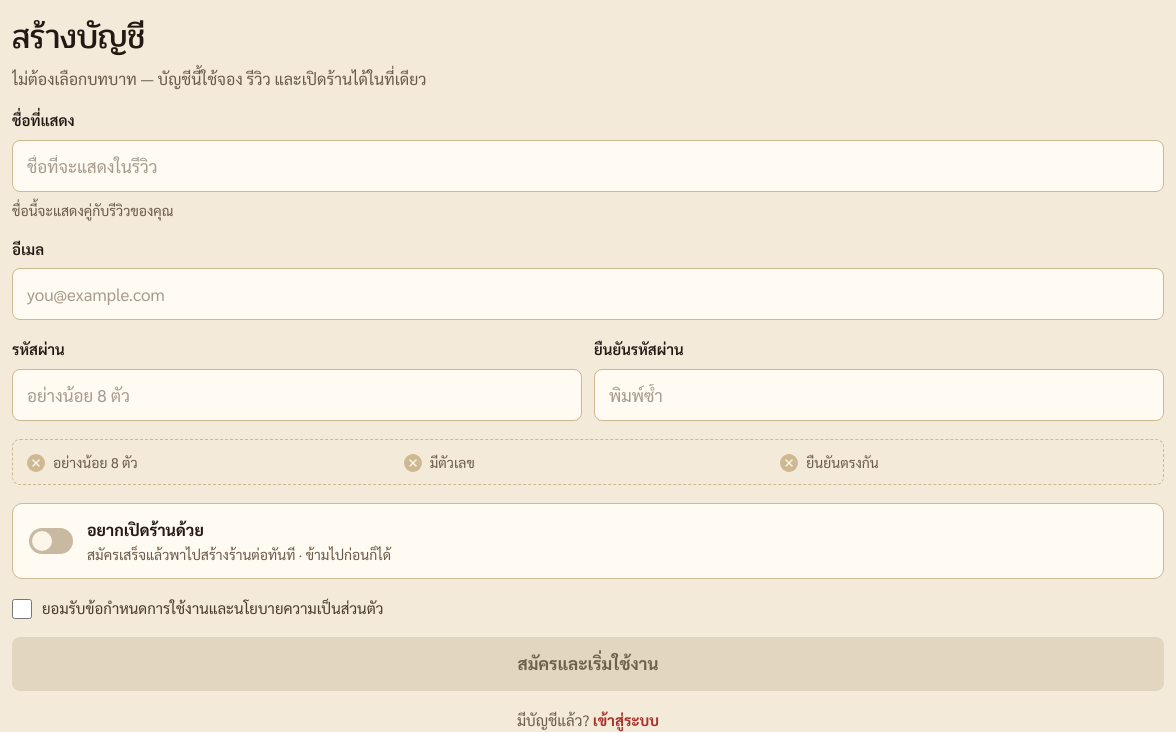
Test case: RegisterForm › checklist รหัสผ่านอัปเดตตามที่พิมพ์ · ปุ่มเปิดเมื่อครบทุกช่อง
Expected: the button "สมัครและเริ่มใช้งาน" is disabled, [12,637,1164,691]
Type "abcdefgh" into the password field labelled "รหัสผ่าน" at x=297, y=394, box [12,368,582,420]
Clear the password field labelled "รหัสผ่าน" at x=297, y=394, box [12,368,582,420]
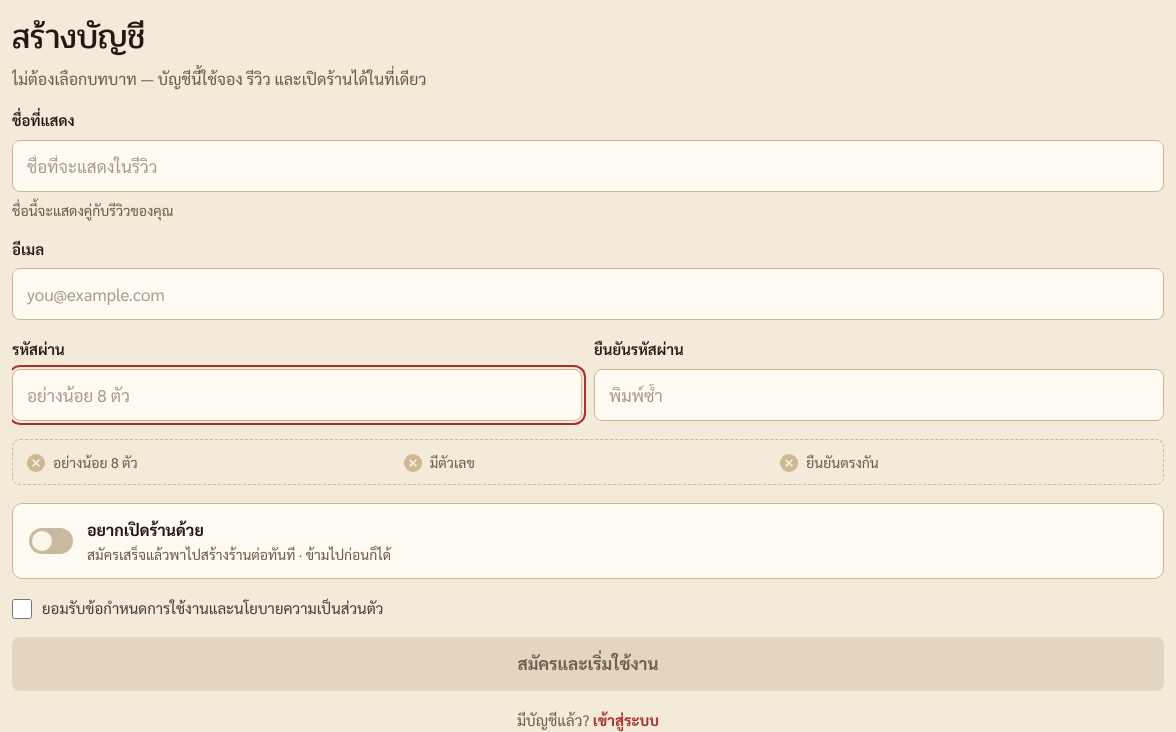
Type "ต้น" into the field labelled "ชื่อที่แสดง" at x=588, y=166, box [12,140,1164,192]
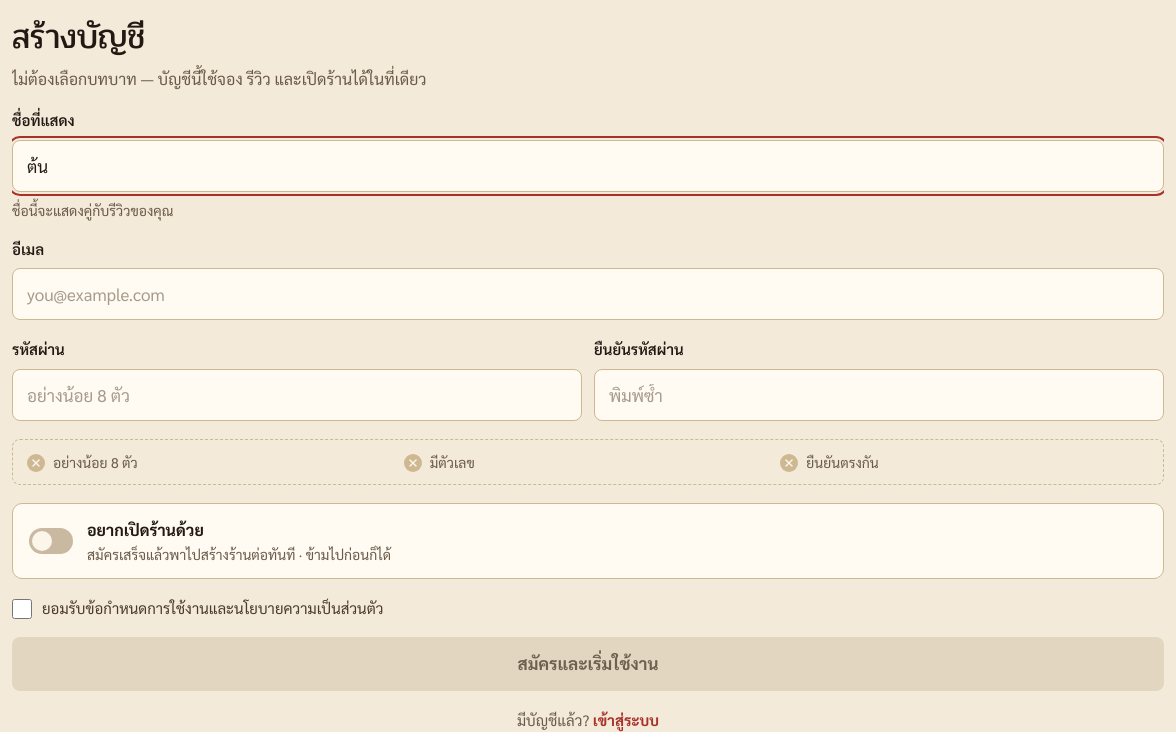
Type "ton@example.com" into the field labelled "อีเมล" at x=588, y=294, box [12,268,1164,320]
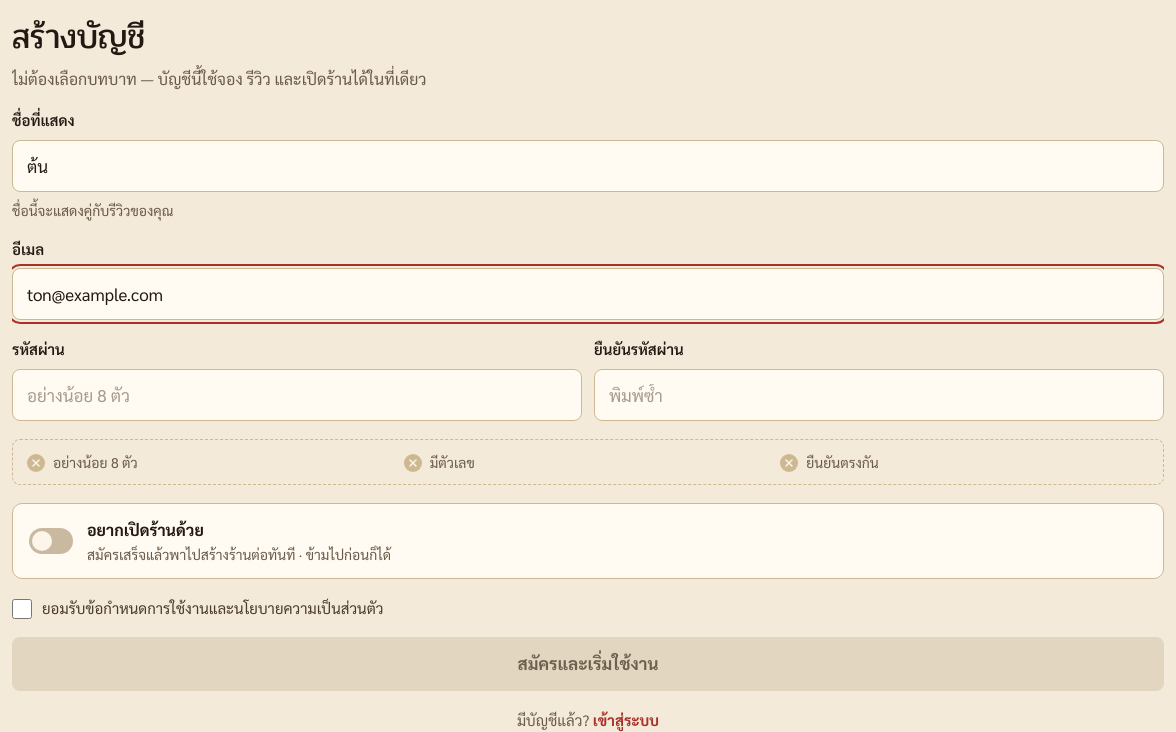
Type "password1" into the password field labelled "รหัสผ่าน" at x=297, y=394, box [12,368,582,420]
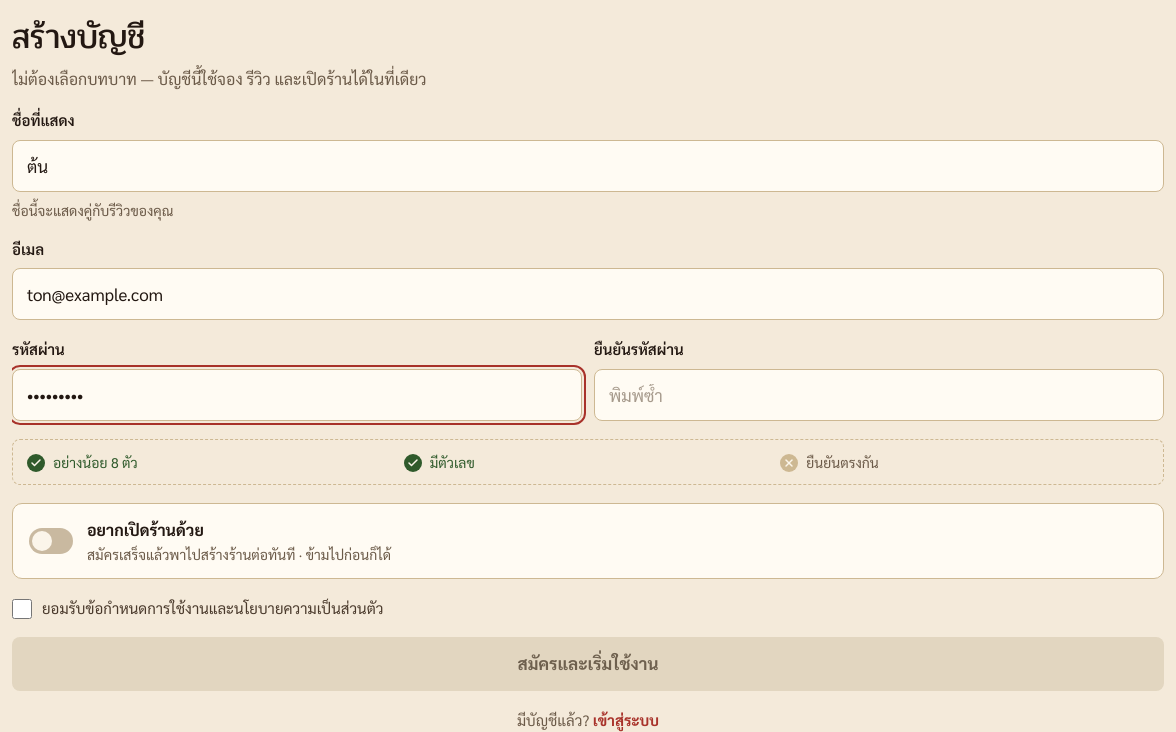
Type "password1" into the password field labelled "ยืนยันรหัสผ่าน" at x=879, y=394, box [594,368,1164,420]
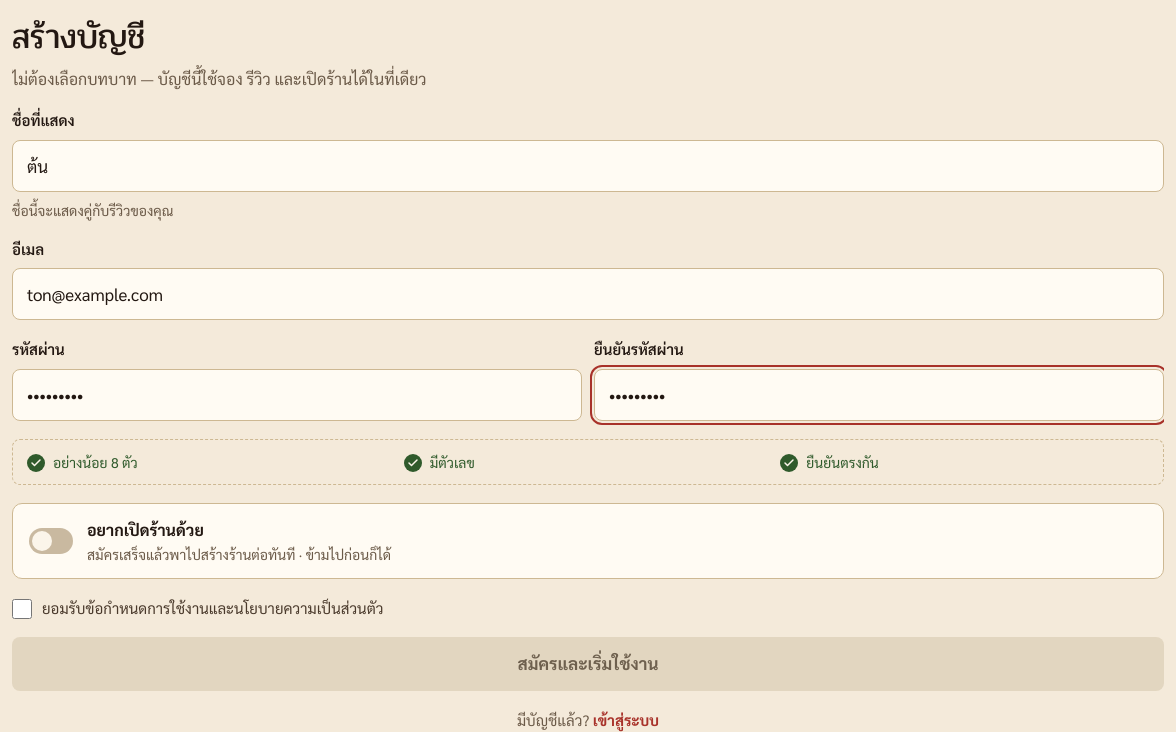
Expected: the button "สมัครและเริ่มใช้งาน" is disabled, [12,637,1164,691]
Click the checkbox at x=22, y=608, box [12,598,32,618]
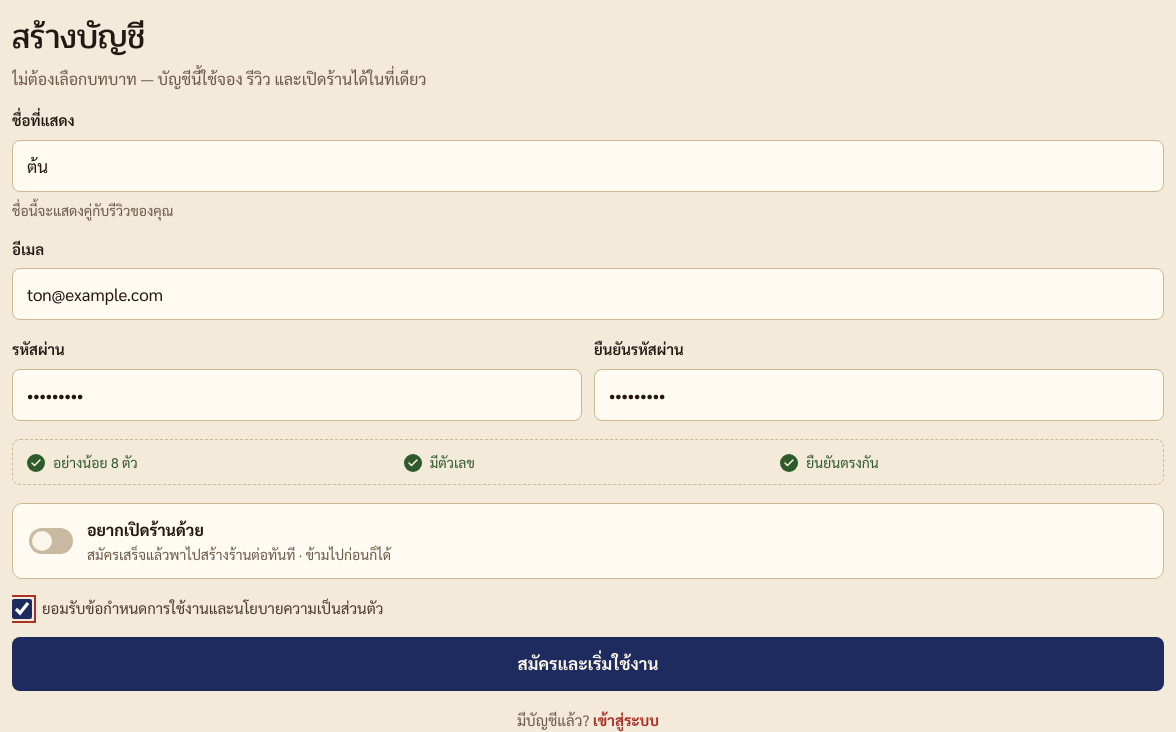
Now the button "สมัครและเริ่มใช้งาน" is enabled, box [12,637,1164,691]
